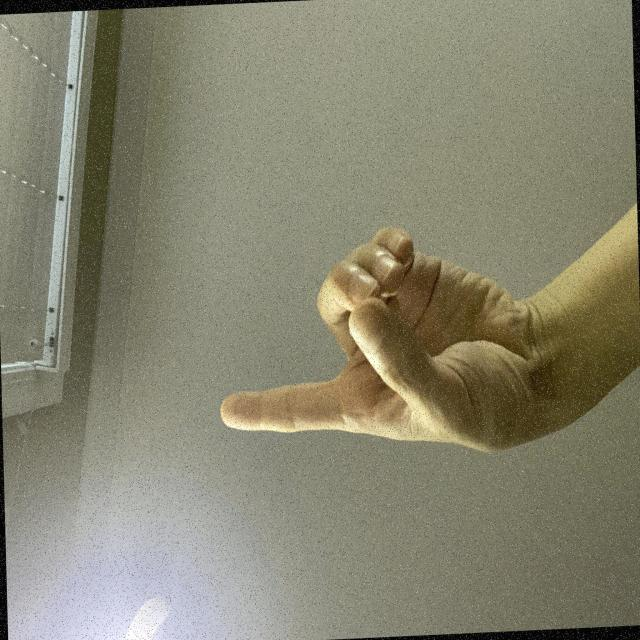D: (129, 282, 321, 640)
